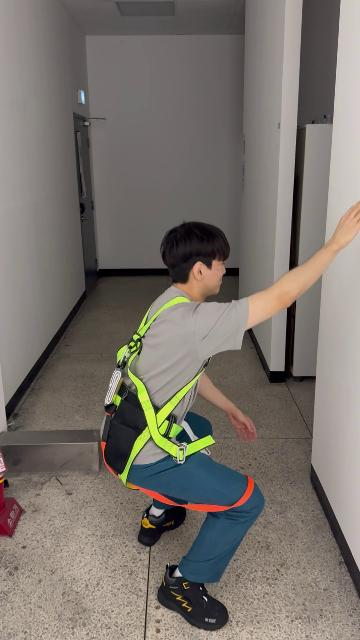helmet_not_worn: (159, 222, 232, 295)
shoe_worn: (157, 566, 228, 632), (138, 502, 187, 545)
vest_worn: (99, 300, 227, 490)
